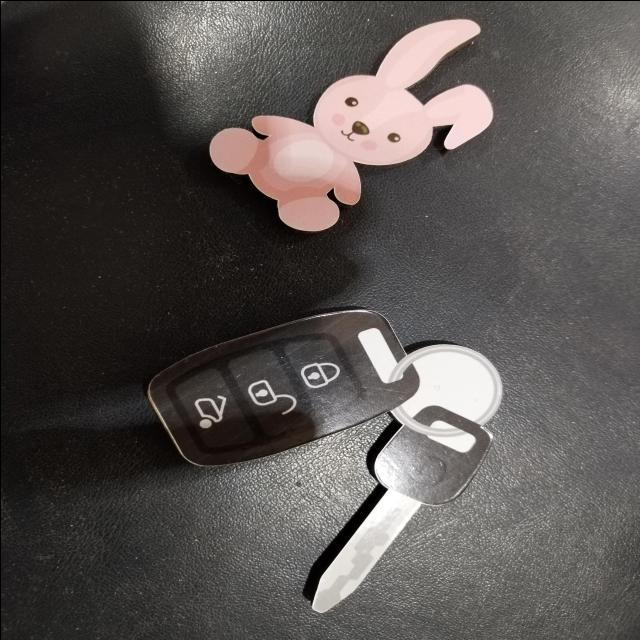Other Objects: (109, 249, 590, 614), (195, 4, 555, 246)
